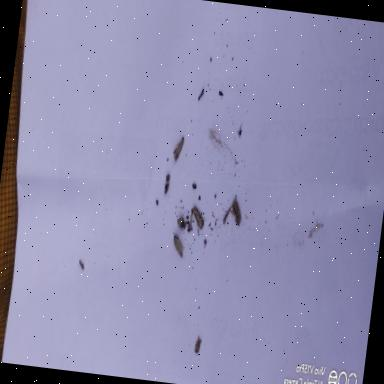pbw: (190, 206, 206, 230), (170, 235, 186, 258), (171, 135, 184, 162), (230, 200, 243, 226)
